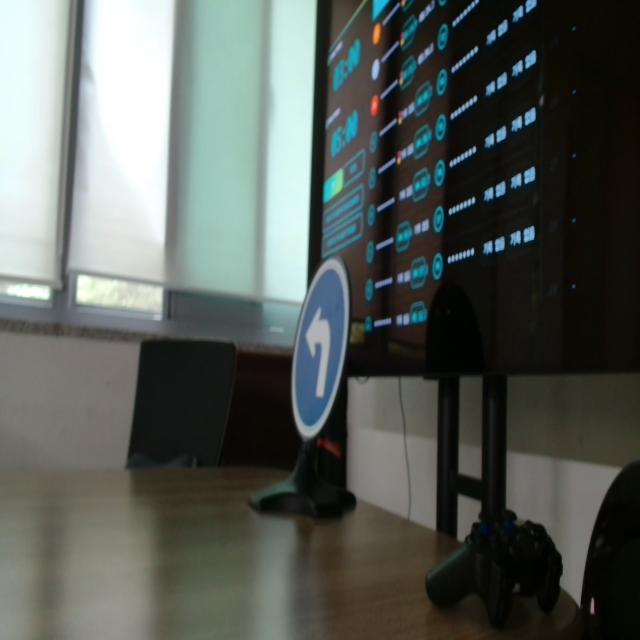left_direction: (288, 248, 353, 449)
